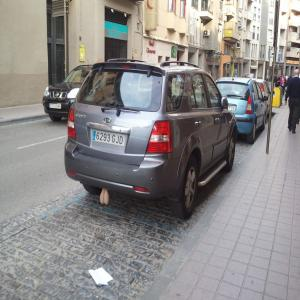Vehicle-registration-plate: (98, 127, 128, 153), (50, 105, 62, 111), (229, 107, 237, 114)
